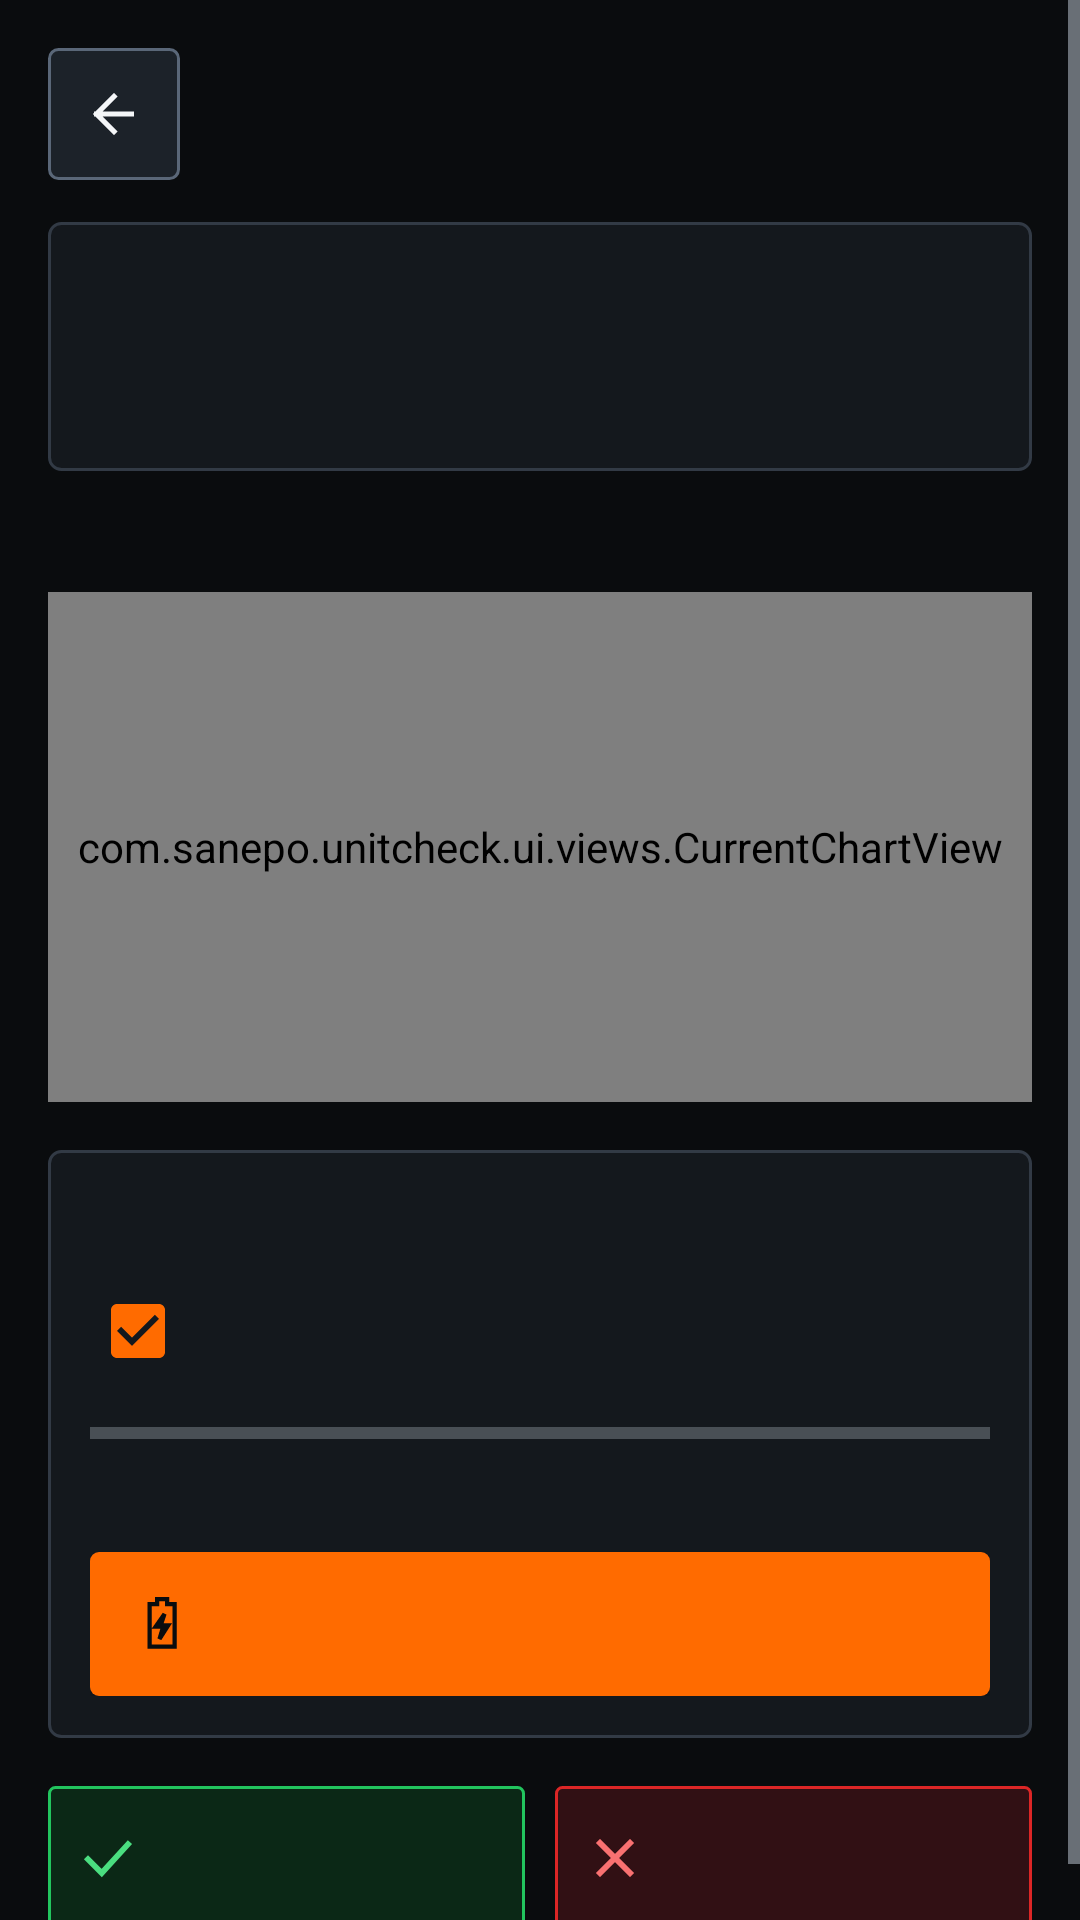

Icons on this 1080x1920 Android screen, each with its box as (x1,y1,x2,y2):
Back: (48,48,180,180)
